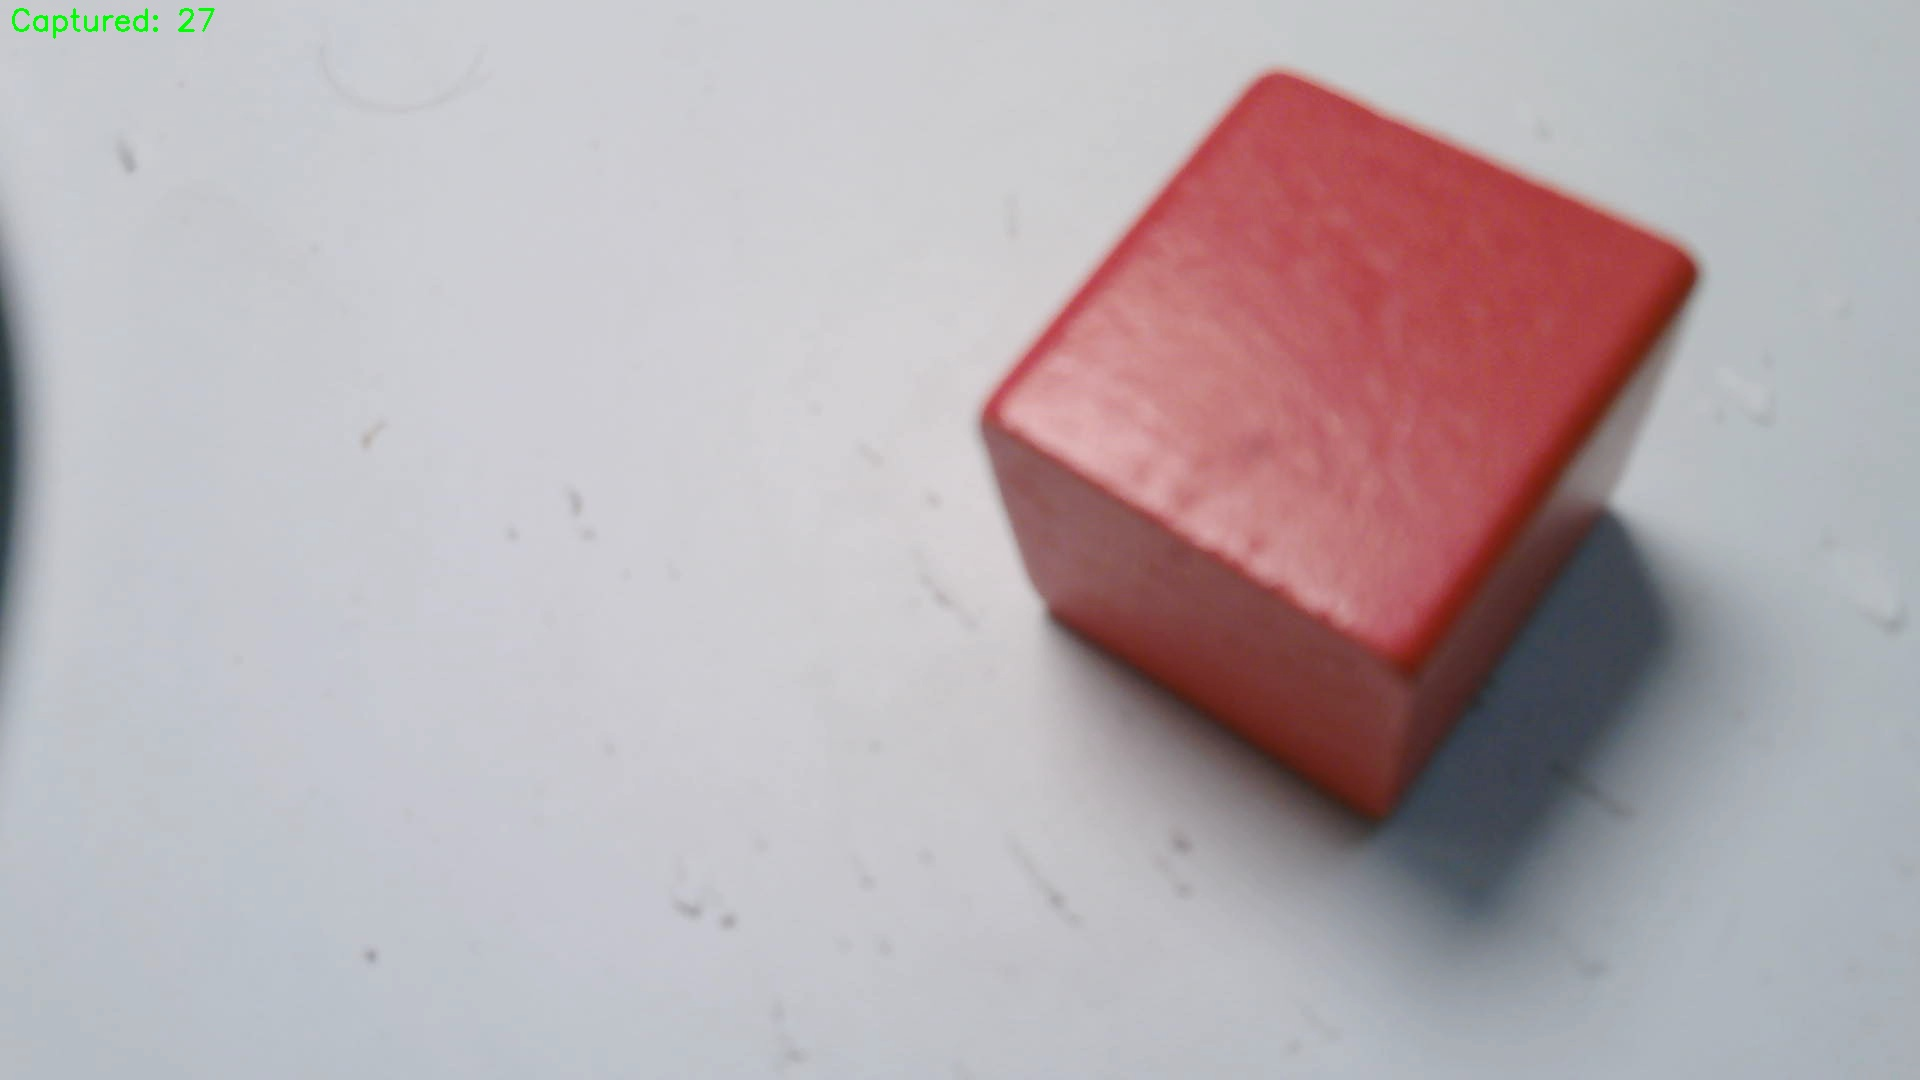red: (982, 69, 1702, 827)
